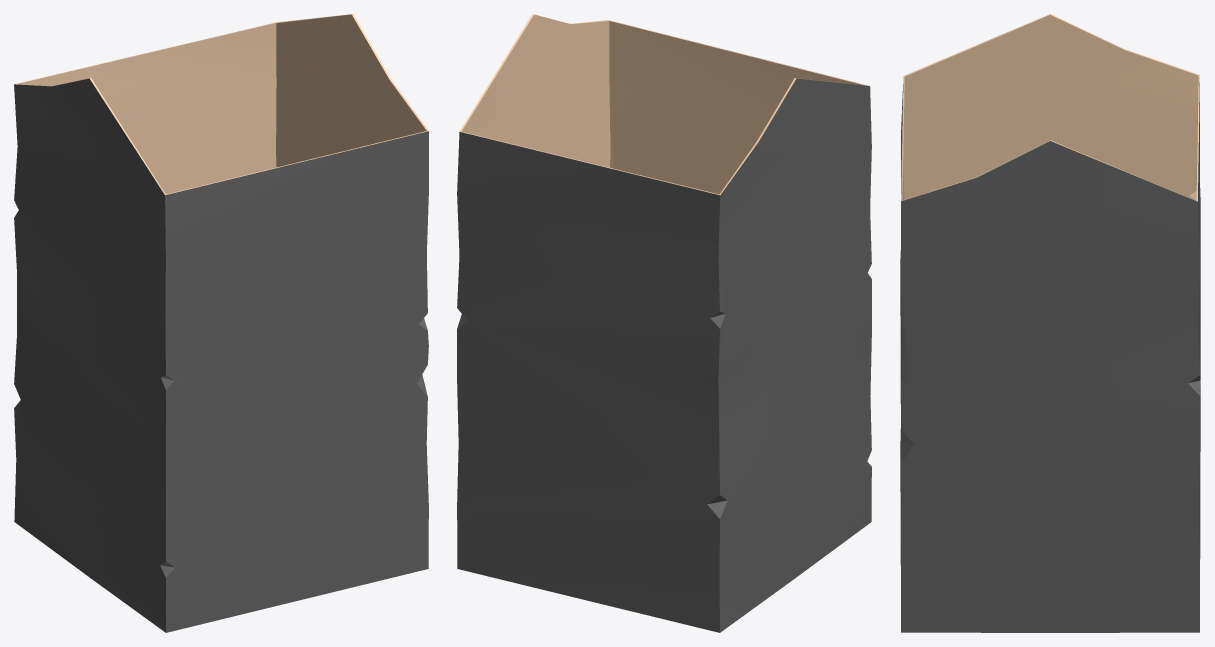
File: Wall_01.fbx
3 renders of one model, left to right at view 1: azimuth 30°, elevation 25°; view 2: azimuth 150°, elevation 25°; view 3: azimuth 270°, elevation 25°, orthographic.
Visible parts, largest first — view 1: Cube.001; view 2: Cube.001; view 3: Cube.001.
Part boxes in pixels (x1=…): Cube.001: x1=14, y1=14, x2=428, y2=632; Cube.001: x1=457, y1=14, x2=871, y2=632; Cube.001: x1=900, y1=14, x2=1200, y2=632.
Size of the model in its own units: 203 by 367 by 203.
